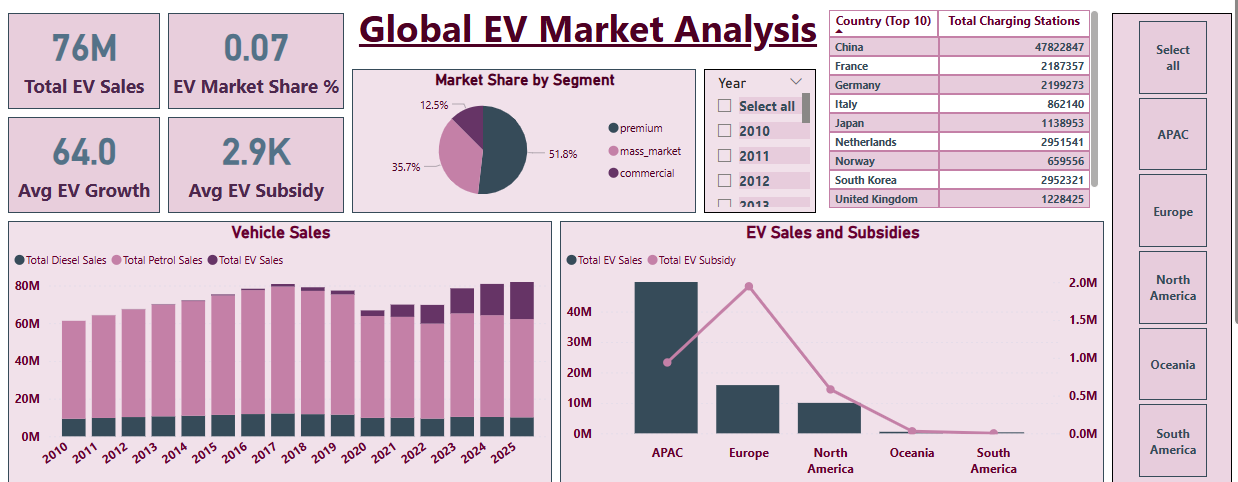

The dashboard page shown, as its layout file describes it:
{"tool":"powerbi","page":{"name":"Page 1","canvas":[1280,720],"ordinal":0},"visuals":[{"type":"card","fields":{"Values":["Measures Table.Total EV Sales"]},"box":[-1,49,152,96],"z":0},{"type":"columnChart","title":"Vehicle Sales","fields":{"Category":["📊 Raw Data.Year"],"Y":["Measures Table.Total Diesel Sales","Measures Table.Total Petrol Sales","Measures Table.Total EV Sales"]},"box":[0,264,580,272],"z":1000},{"type":"pieChart","title":"Market Share by Segment","fields":{"Category":["📊 Raw Data.Vehicle Segment"],"Y":["Measures Table.EV Market Share %"]},"box":[344,72,400,184],"z":2000},{"type":"slicer","fields":{"Values":["📊 Raw Data.Region"]},"box":[1168,8,112,528],"z":3000},{"type":"lineClusteredColumnComboChart","title":"EV Sales and Subsidies","fields":{"Category":["📊 Raw Data.Region"],"Y":["Measures Table.Total EV Sales"],"Y2":["Measures Table.Total EV Subsidy"]},"box":[584,264,568,272],"z":4000},{"type":"slicer","fields":{"Values":["📊 Raw Data.Year"]},"box":[752,72,112,184],"z":5000},{"type":"card","fields":{"Values":["Measures Table.EV Market Share %"]},"box":[160,49,176,96],"z":6000},{"type":"card","fields":{"Values":["Measures Table.Avg EV Subsidy"]},"box":[160,159,176,96],"z":7000},{"type":"card","fields":{"Values":["Measures Table.Avg EV Growth"]},"box":[-1,159,152,96],"z":8000},{"type":"pivotTable","fields":{"Values":["Measures Table.Total Charging Stations"],"Rows":["📊 Raw Data.Country"]},"box":[872,8,280,248],"z":9000},{"type":"textbox","box":[352,0,488,64],"z":10000}]}

Visuals, with their boxes on the page's 1280x720 design canvas (x1, y1, x2, y2). These are canvas units, not pixel positions in the 1238x482 screenshot, which may show the page scaled, cropped or inside an application window:
card - Measures Table.Total EV Sales: -1:49:151:145
"Vehicle Sales" columnChart: 0:264:580:536
"Market Share by Segment" pieChart: 344:72:744:256
slicer - 📊 Raw Data.Region: 1168:8:1280:536
"EV Sales and Subsidies" lineClusteredColumnComboChart: 584:264:1152:536
slicer - 📊 Raw Data.Year: 752:72:864:256
card - Measures Table.EV Market Share %: 160:49:336:145
card - Measures Table.Avg EV Subsidy: 160:159:336:255
card - Measures Table.Avg EV Growth: -1:159:151:255
pivotTable - Measures Table.Total Charging Stations x 📊 Raw Data.Country: 872:8:1152:256
textbox: 352:0:840:64
